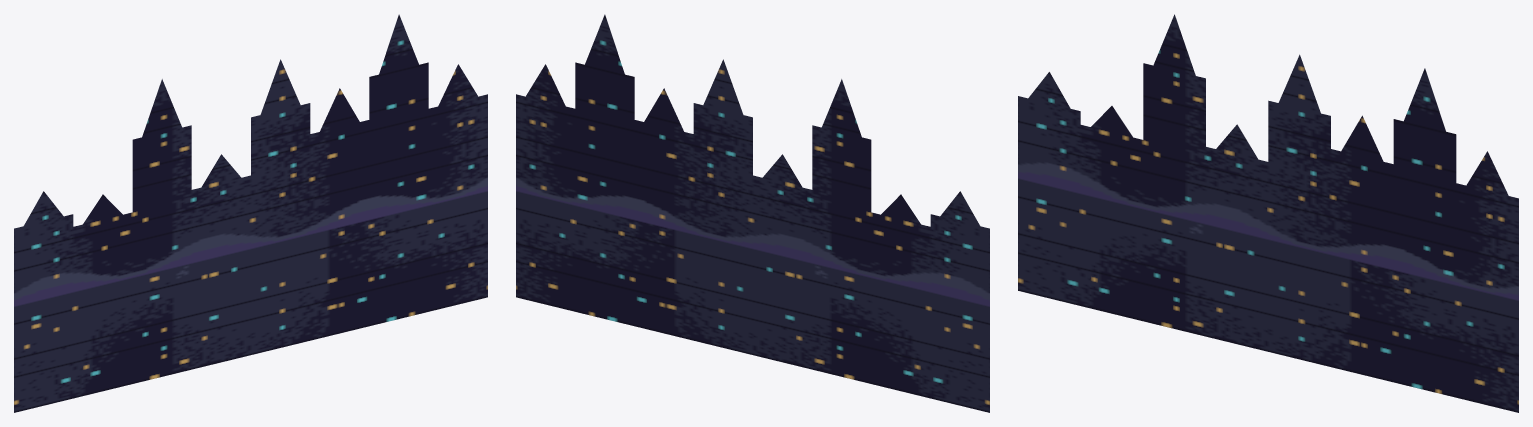
The model's file is cysky.needle.glb.
3 views of the same model, side by side, from view 1: azimuth 30°, elevation 25°; view 2: azimuth 150°, elevation 25°; view 3: azimuth 330°, elevation 25° (orthographic). The views are drawn at different scales.
Parts seen in each view (by area): view 1: kit_card_skyline; view 2: kit_card_skyline; view 3: kit_card_skyline.
Boxes of the visible parts, <box> form: kit_card_skyline: <box>14,14,487,412</box>; kit_card_skyline: <box>516,14,989,412</box>; kit_card_skyline: <box>1018,14,1518,412</box>.
Size of the model in its own units: 56 by 34.45 by 0.
1 material, 1 textured.
